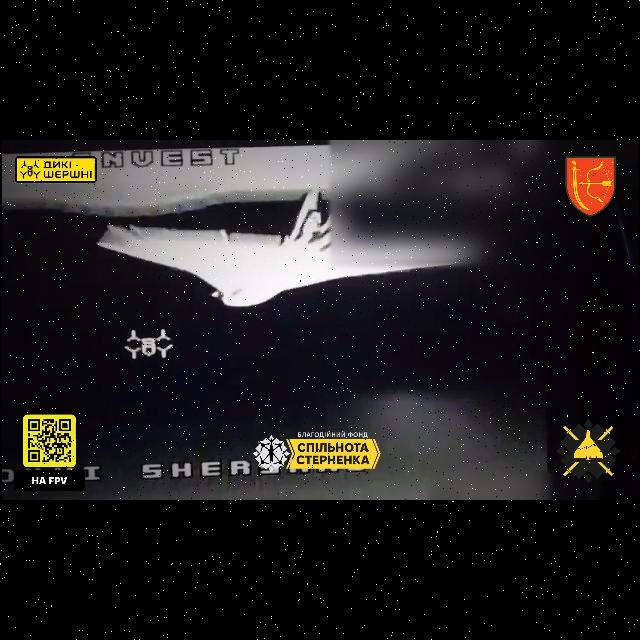Gerbera: (76, 190, 490, 308)
